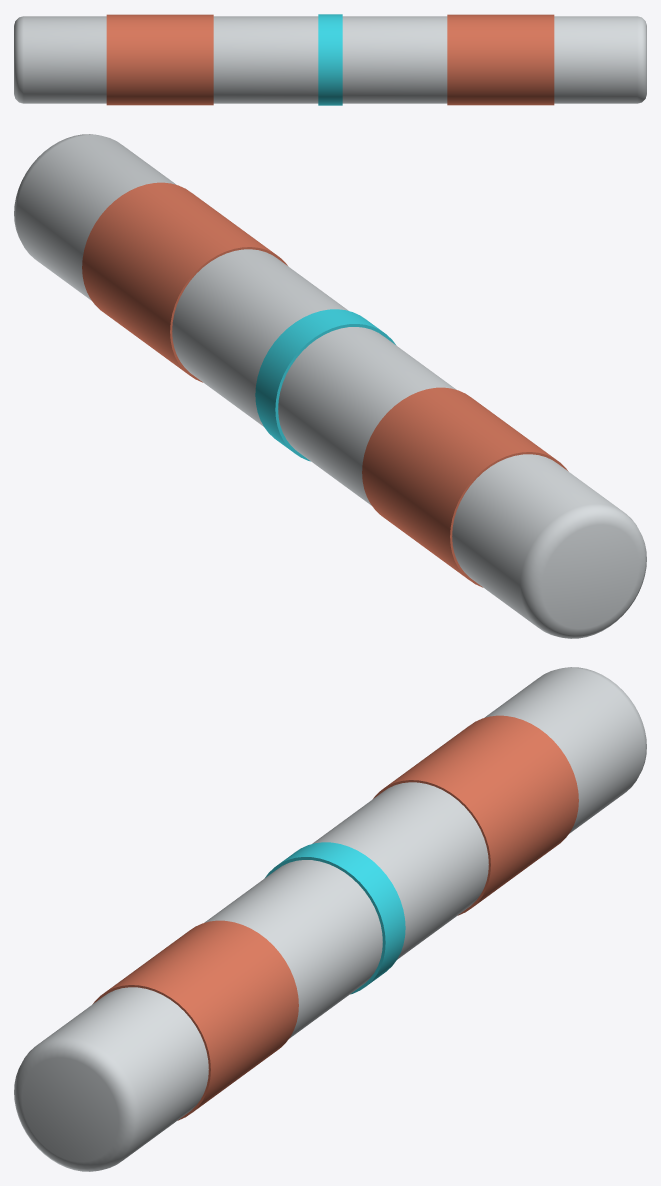
The model's file is relay-baton.glb.
The picture shows the model from 3 angles, top to bottom: view 1: azimuth 30°, elevation 25°; view 2: azimuth 150°, elevation 25°; view 3: azimuth 270°, elevation 25°; orthographic projection. The views are drawn at different scales.
Visible parts, largest first — view 1: titan.baton.body, titan.baton.grip.-0.35, titan.baton.grip.0.35, titan.baton.band; view 2: titan.baton.body, titan.baton.grip.-0.35, titan.baton.grip.0.35, titan.baton.band; view 3: titan.baton.body, titan.baton.grip.0.35, titan.baton.grip.-0.35, titan.baton.band.
Part boxes in pixels (x1=…): titan.baton.body: x1=14, y1=16, x2=646, y2=103; titan.baton.grip.-0.35: x1=106, y1=14, x2=213, y2=105; titan.baton.grip.0.35: x1=447, y1=14, x2=554, y2=105; titan.baton.band: x1=318, y1=14, x2=342, y2=105; titan.baton.body: x1=14, y1=134, x2=646, y2=638; titan.baton.grip.-0.35: x1=362, y1=387, x2=568, y2=587; titan.baton.grip.0.35: x1=82, y1=182, x2=287, y2=382; titan.baton.band: x1=255, y1=309, x2=396, y2=461; titan.baton.body: x1=14, y1=667, x2=646, y2=1171; titan.baton.grip.0.35: x1=92, y1=920, x2=298, y2=1120; titan.baton.grip.-0.35: x1=373, y1=715, x2=578, y2=915; titan.baton.band: x1=264, y1=842, x2=405, y2=994.
Bounding box in the file's own units: 1.2 × 0.188 × 0.7912.
